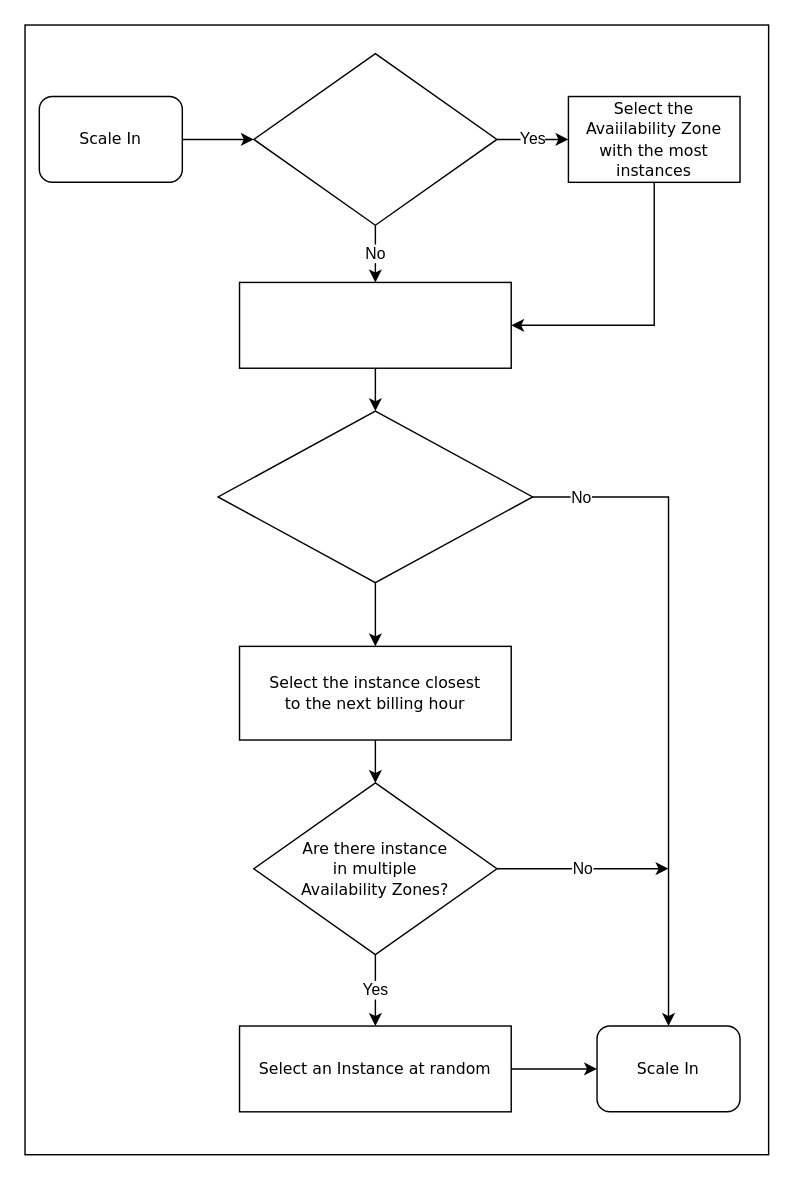
Some shapes in this 794 by 1180 pixel diagram are drawn without their labels. Each missing label, with the centre of its shape:
Are there instances in multiple Availability Zones?: the point at 374,138
Are there multiple instances using oldest launch template or configurations: the point at 375,496
Select the instance with oldest launch template or configuration: the point at 374,324
